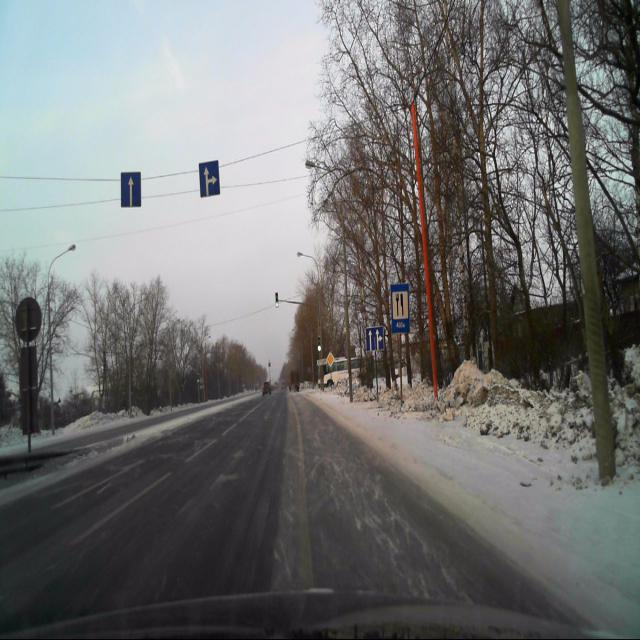object: (400, 335, 404, 410)
road sign: (390, 283, 410, 333), (120, 171, 142, 209), (199, 160, 221, 196), (366, 327, 384, 354)
